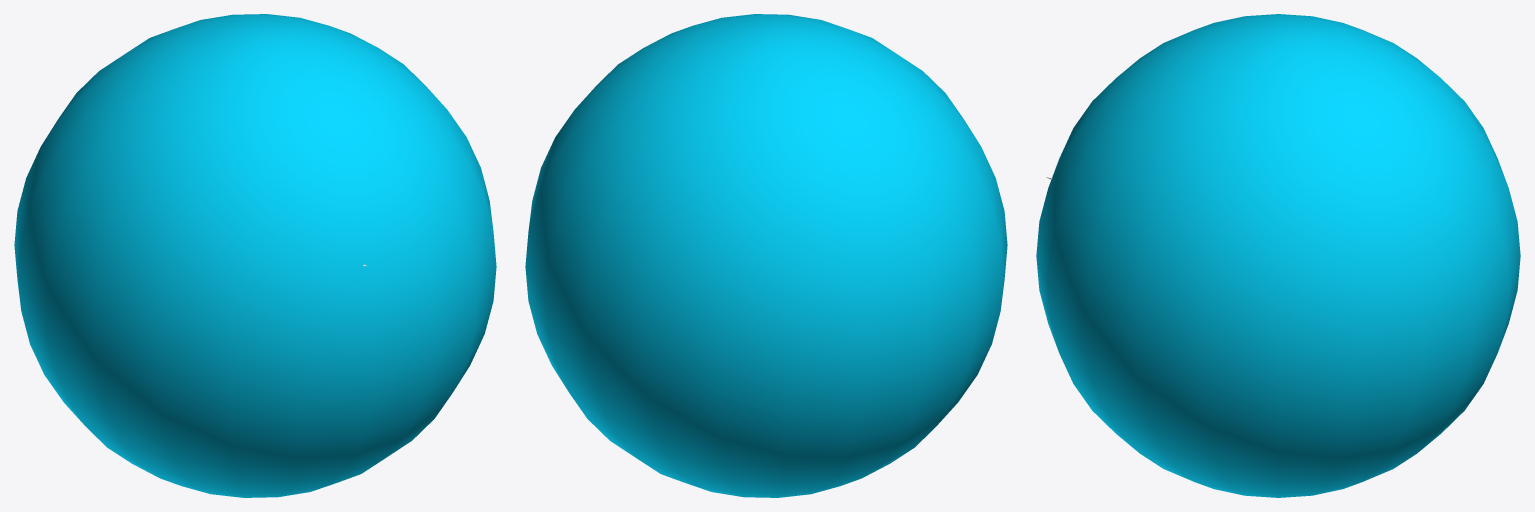
File: Harpoon_Bubble.fbx
3 renders of one model, left to right at view 1: azimuth 30°, elevation 25°; view 2: azimuth 150°, elevation 25°; view 3: azimuth 270°, elevation 25°, orthographic.
Parts seen in each view (by area): view 1: pSphere1; view 2: pSphere1; view 3: pSphere1.
Part boxes in pixels (bbox=[...]): pSphere1: bbox=[14, 14, 496, 497]; pSphere1: bbox=[525, 14, 1007, 497]; pSphere1: bbox=[1036, 14, 1520, 497].
Size of the model in its own units: 21.53 by 21.53 by 21.53.
